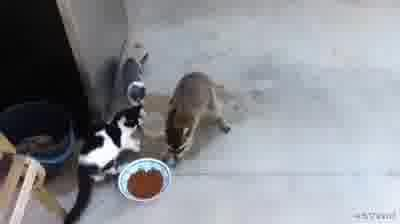raccoon: (163, 71, 234, 162)
